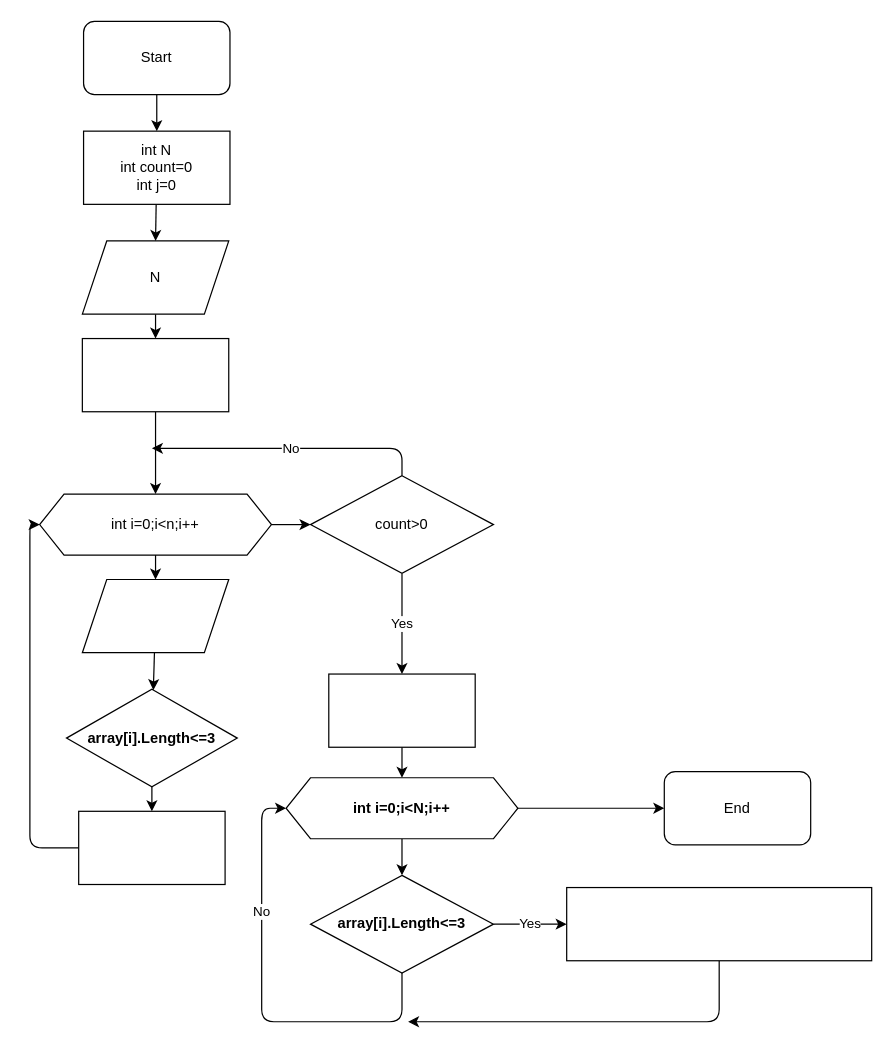
Image size: 893x1053. Some labels were removed from this diagram. The shapes that lost their labels are listed below. From the top down, each one's box as (x1, y1, x2, y2) in pixels, then its label:
(81, 337, 229, 412): string[] array array.Length=N
(81, 578, 229, 653): array[i]
(328, 673, 475, 747): string array2[] array2.Length=count
(77, 810, 225, 884): count++
(565, 886, 872, 961): array2[j]=array[i] Console.Write($"array2[j], ")
